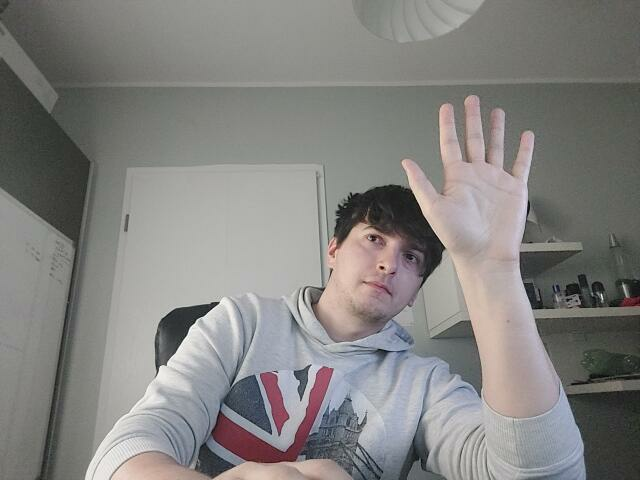hello: (400, 92, 535, 258)
